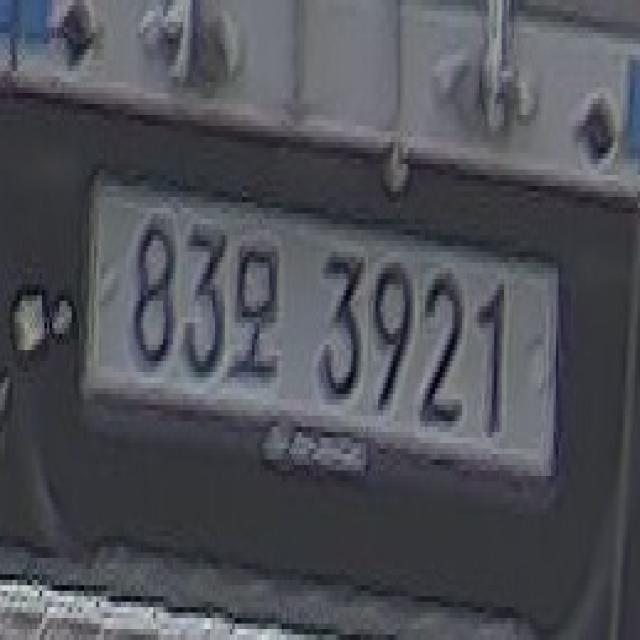plat: (76, 165, 564, 490)
